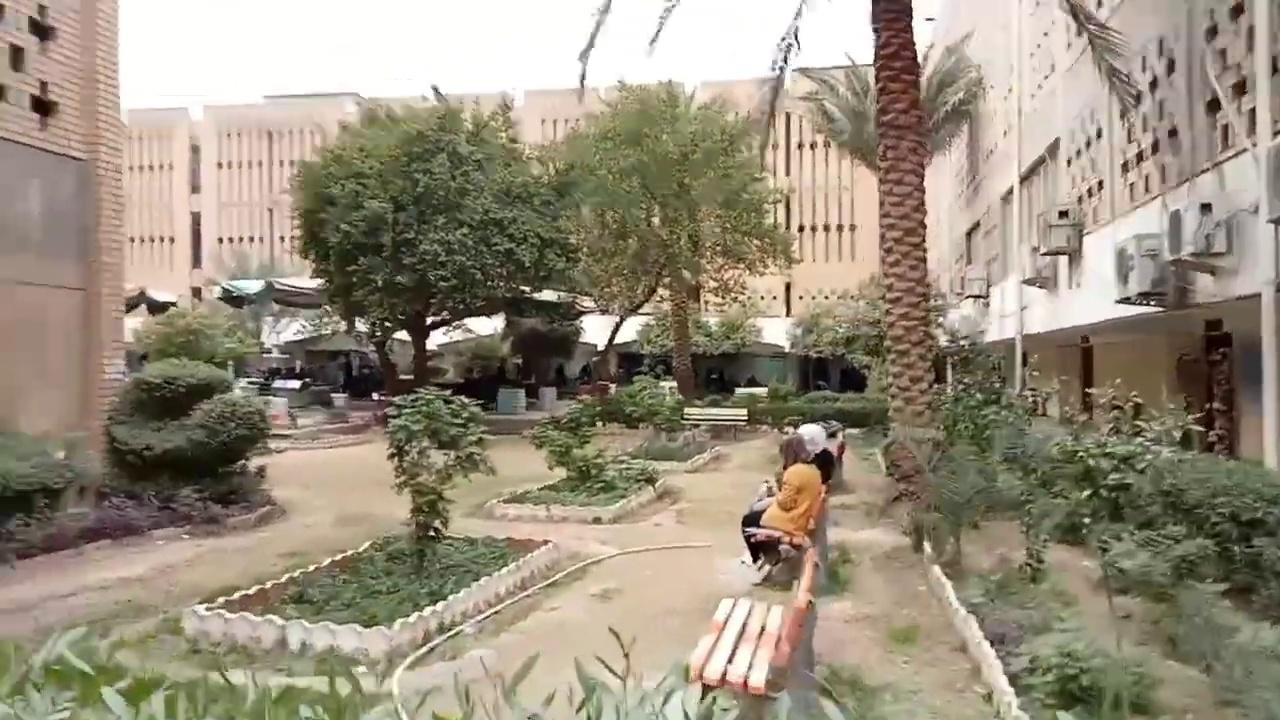person: (740, 434, 826, 568)
tree: (571, 0, 1141, 529), (792, 1, 986, 503), (283, 92, 584, 394), (532, 77, 801, 400), (99, 290, 275, 495), (381, 383, 496, 542)
